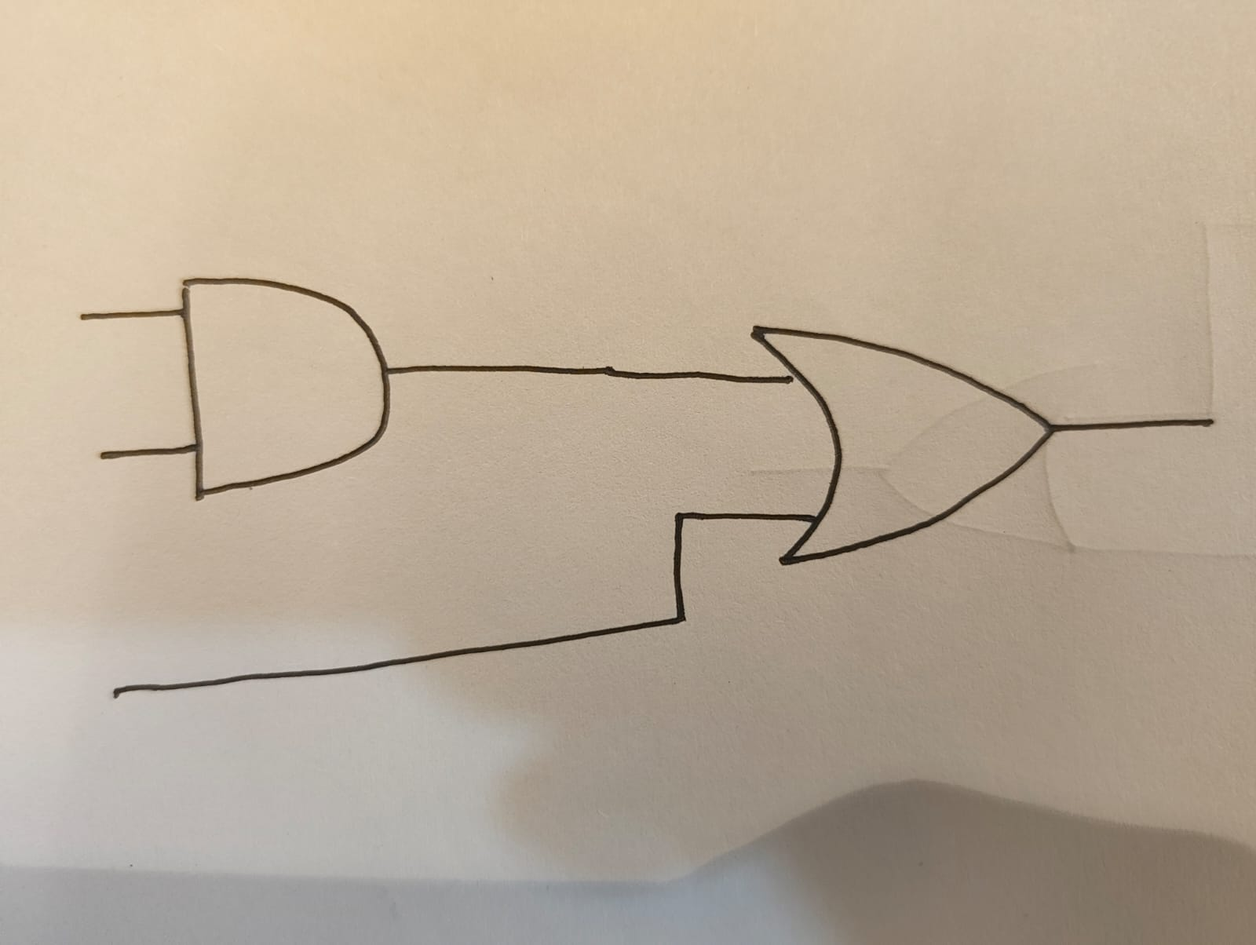and gate: (168, 268, 415, 515)
or gate: (735, 315, 1072, 587)
